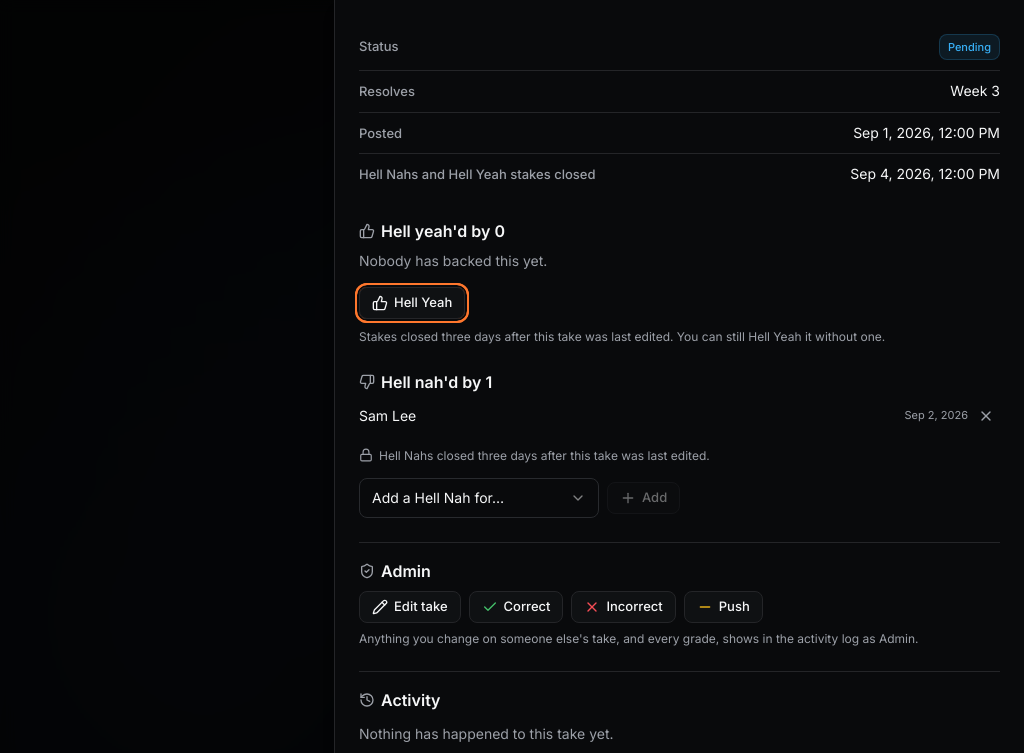
TakeDetailSheet, admin › opens the editor in place and hands the parent only what moved
The width and height of the screenshot is (1024, 753).
(page scrolled)
Click the button "Edit take": point(410, 607) x1=359 y1=591 x2=460 y2=623
(page scrolled)
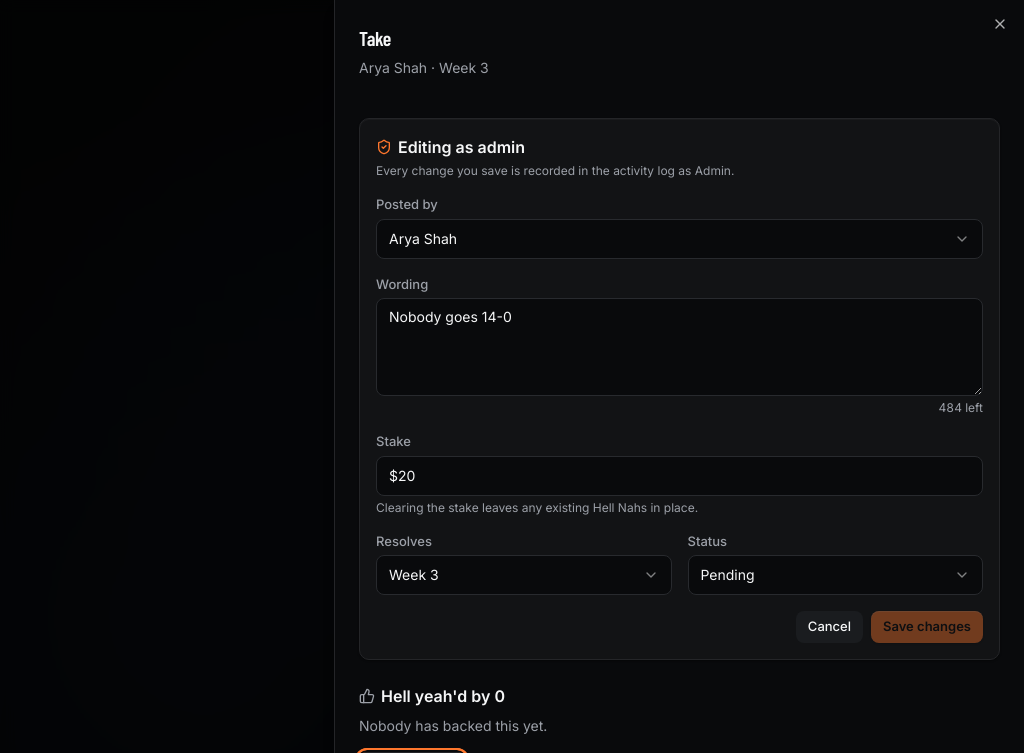
Check: the text box labelled "Wording" holds "Nobody goes 14-0"
Check: the button "Correct" is gone
Replace the text in the text box labelled "Wording" with "Nobody goes 13-1": point(680, 347) x1=376 y1=298 x2=983 y2=396
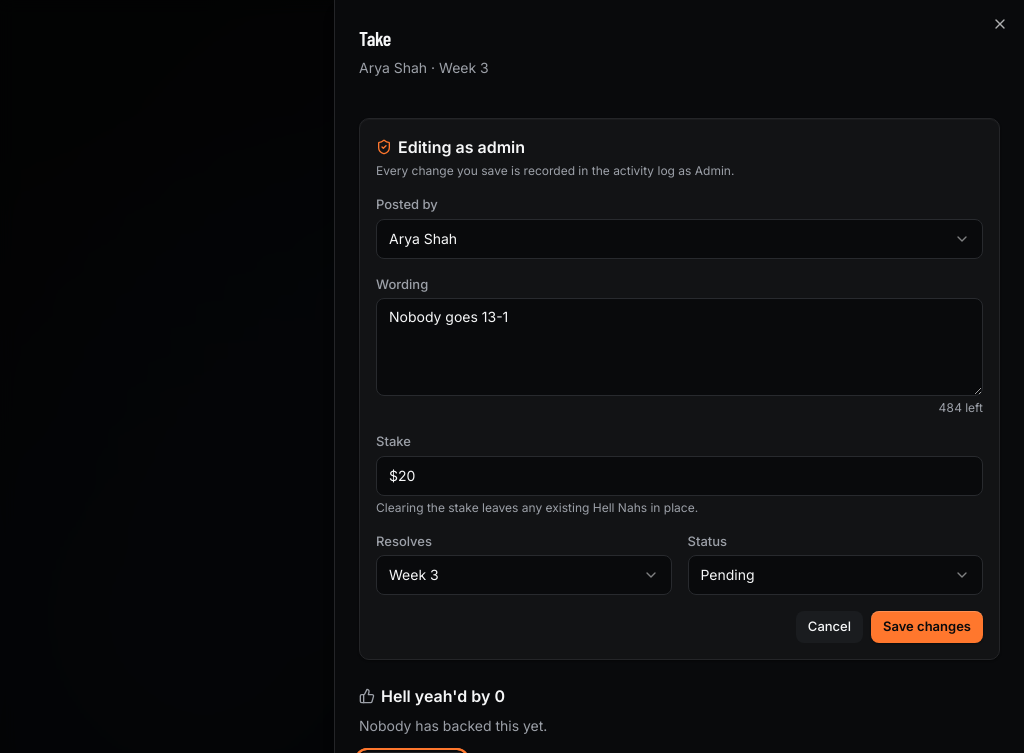
Click the button "Save changes": point(927, 627) x1=871 y1=611 x2=983 y2=643
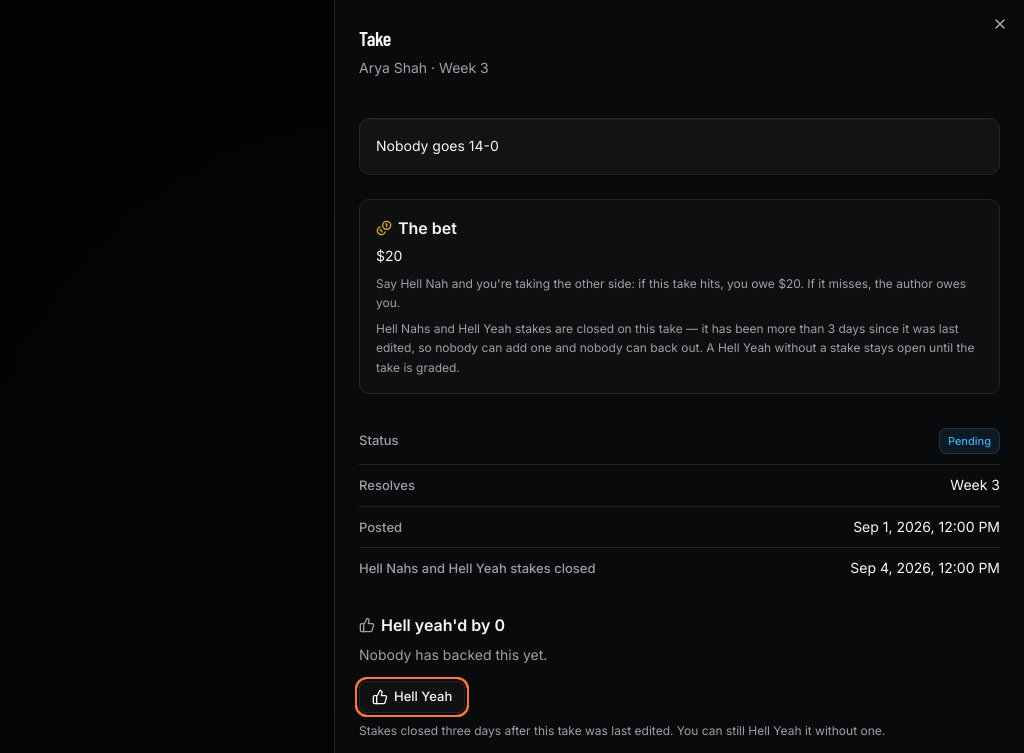
Check: the label labelled "Wording" is gone
